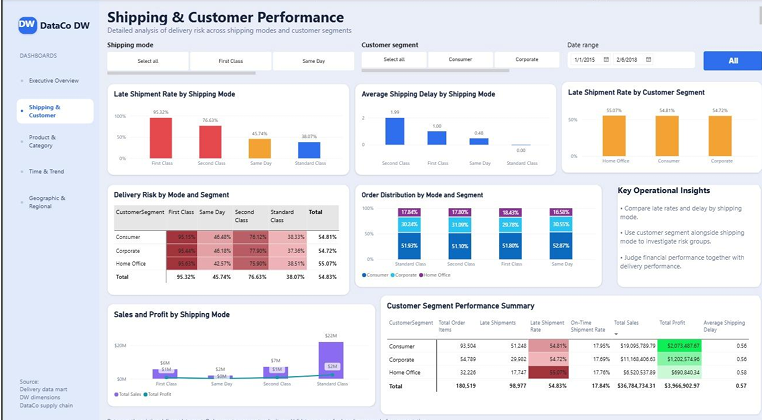

Layout of this report page (visuals, bound fields, positions):
{"tool":"powerbi","page":{"name":"Shipping & Customer","canvas":[1920,1080],"ordinal":1},"visuals":[{"type":"textbox","box":[0,0,240,1080],"z":0},{"type":"textbox","box":[38,44,48,45],"z":1000},{"type":"textbox","box":[92,48,136,42],"z":2000},{"type":"textbox","box":[42,130,180,30],"z":3000},{"type":"textbox","box":[42,944,174,95],"z":4000},{"type":"textbox","box":[260,18,1640,46],"z":5000},{"type":"textbox","box":[260,65,1640,25],"z":6000},{"type":"textbox","box":[260,1045,1640,24],"z":7000},{"type":"clusteredColumnChart","title":"Late Shipment Rate by Shipping Mode","fields":{"Category":["DW DimShipping.Shipping_Mode"],"Y":["DM FactDeliveryPerformance.Late Shipment Rate"]},"box":[260.6,211.7,605,228],"z":12000},{"type":"clusteredColumnChart","title":"Average Shipping Delay by Shipping Mode","fields":{"Category":["DW DimShipping.Shipping_Mode"],"Y":["DM FactDeliveryPerformance.Average Shipping Delay"]},"box":[879.5,211.7,503,228],"z":13000},{"type":"clusteredColumnChart","title":"Late Shipment Rate by Customer Segment","fields":{"Category":["DM FactDeliveryPerformance.CustomerSegment"],"Y":["DM FactDeliveryPerformance.Late Shipment Rate"]},"box":[1395.2,206.3,504,228],"z":14000},{"type":"pivotTable","title":"Delivery Risk by Mode and Segment","fields":{"Columns":["DW DimShipping.Shipping_Mode"],"Rows":["DM FactDeliveryPerformance.CustomerSegment"],"Values":["DM FactDeliveryPerformance.Late Shipment Rate"]},"box":[260.6,463.3,604.4,276.9],"z":15000},{"type":"lineClusteredColumnComboChart","title":"Sales and Profit by Shipping Mode","fields":{"Category":["DW DimShipping.Shipping_Mode"],"Y":["DM FactDeliveryPerformance.Total Sales"],"Y2":["DM FactDeliveryPerformance.Total Profit"]},"box":[260.6,761.9,669.6,257],"z":16000},{"type":"pivotTable","title":"Customer Segment Performance Summary","fields":{"Rows":["DM FactDeliveryPerformance.CustomerSegment"],"Values":["DM FactDeliveryPerformance.Total Order Items","DM FactDeliveryPerformance.Late Shipments","DM FactDeliveryPerformance.Late Shipment Rate","DM FactDeliveryPerformance.On-Time Shipment Rate","DM FactDeliveryPerformance.Total Sales","DM FactDeliveryPerformance.Total Profit","DM FactDeliveryPerformance.Average Shipping Delay"]},"box":[942.8,740.2,953.7,298.6],"z":17000},{"type":"hundredPercentStackedColumnChart","title":"Order Distribution by Mode and Segment","fields":{"Category":["DW DimShipping.Shipping_Mode"],"Series":["DM FactDeliveryPerformance.CustomerSegment"],"Y":["DM FactDeliveryPerformance.Total Order Items"]},"box":[879.5,463.3,617.1,257],"z":18000},{"type":"textbox","box":[1534.6,463.3,361.9,257],"z":19000},{"type":"textbox","box":[1541.8,510.3,336.6,181],"z":20000},{"type":"textbox","box":[34,250,192,61],"z":21000},{"type":"textbox","box":[65,191,165,48],"z":22000},{"type":"textbox","box":[65,258,165,48],"z":23000},{"type":"textbox","box":[65,334,165,48],"z":24000},{"type":"textbox","box":[65,419,165,48],"z":25000},{"type":"textbox","box":[65,486,165,48],"z":26000},{"type":"textbox","box":[44,344,22,28],"z":27000},{"type":"textbox","box":[44,496,22,28],"z":28000},{"type":"textbox","box":[44,268,22,28],"z":29000},{"type":"textbox","box":[44,420,22,28],"z":30000},{"type":"textbox","box":[44,192,22,28],"z":31000},{"type":"actionButton","box":[34,174,192,61],"z":32000},{"type":"actionButton","box":[34,250,192,61],"z":33000},{"type":"actionButton","box":[34,326,192,61],"z":34000},{"type":"actionButton","box":[34,402,192,61],"z":35000},{"type":"actionButton","box":[34,478,192,61],"z":36000},{"type":"textbox","box":[260.6,103.2,175.5,41.6],"z":37000},{"type":"textbox","box":[1409.7,103.2,262.4,21.7],"z":38000},{"type":"textbox","box":[895.8,103.2,247.9,27.1],"z":39000},{"type":"advancedSlicerVisual","fields":{"Values":["DM FactDeliveryPerformance.CustomerSegment"]},"box":[895.8,132.1,494,52.5],"z":40000},{"type":"slicer","fields":{"Values":["DW DimDate.FullDate"]},"box":[1409.7,130.3,320.3,43.4],"z":41000},{"type":"actionButton","box":[1749.9,130.3,150,48],"z":42000},{"type":"advancedSlicerVisual","fields":{"Values":["DW DimShipping.Shipping_Mode"]},"box":[260.6,132.1,618.9,59.7],"z":43000}]}

Visuals, with their boxes on the page's 1920x1080 design canvas (x1, y1, x2, y2). These are canvas units, not pixel positions in the 762x420 screenshot, which may show the page scaled, cropped or inside an application window:
textbox: Rect(0, 0, 240, 1080)
textbox: Rect(38, 44, 86, 89)
textbox: Rect(92, 48, 228, 90)
textbox: Rect(42, 130, 222, 160)
textbox: Rect(42, 944, 216, 1039)
textbox: Rect(260, 18, 1900, 64)
textbox: Rect(260, 65, 1900, 90)
textbox: Rect(260, 1045, 1900, 1069)
"Late Shipment Rate by Shipping Mode" clusteredColumnChart: Rect(261, 212, 866, 440)
"Average Shipping Delay by Shipping Mode" clusteredColumnChart: Rect(880, 212, 1382, 440)
"Late Shipment Rate by Customer Segment" clusteredColumnChart: Rect(1395, 206, 1899, 434)
"Delivery Risk by Mode and Segment" pivotTable: Rect(261, 463, 865, 740)
"Sales and Profit by Shipping Mode" lineClusteredColumnComboChart: Rect(261, 762, 930, 1019)
"Customer Segment Performance Summary" pivotTable: Rect(943, 740, 1896, 1039)
"Order Distribution by Mode and Segment" hundredPercentStackedColumnChart: Rect(880, 463, 1497, 720)
textbox: Rect(1535, 463, 1896, 720)
textbox: Rect(1542, 510, 1878, 691)
textbox: Rect(34, 250, 226, 311)
textbox: Rect(65, 191, 230, 239)
textbox: Rect(65, 258, 230, 306)
textbox: Rect(65, 334, 230, 382)
textbox: Rect(65, 419, 230, 467)
textbox: Rect(65, 486, 230, 534)
textbox: Rect(44, 344, 66, 372)
textbox: Rect(44, 496, 66, 524)
textbox: Rect(44, 268, 66, 296)
textbox: Rect(44, 420, 66, 448)
textbox: Rect(44, 192, 66, 220)
actionButton: Rect(34, 174, 226, 235)
actionButton: Rect(34, 250, 226, 311)
actionButton: Rect(34, 326, 226, 387)
actionButton: Rect(34, 402, 226, 463)
actionButton: Rect(34, 478, 226, 539)
textbox: Rect(261, 103, 436, 145)
textbox: Rect(1410, 103, 1672, 125)
textbox: Rect(896, 103, 1144, 130)
advancedSlicerVisual - DM FactDeliveryPerformance.CustomerSegment: Rect(896, 132, 1390, 185)
slicer - DW DimDate.FullDate: Rect(1410, 130, 1730, 174)
actionButton: Rect(1750, 130, 1900, 178)
advancedSlicerVisual - DW DimShipping.Shipping_Mode: Rect(261, 132, 880, 192)
